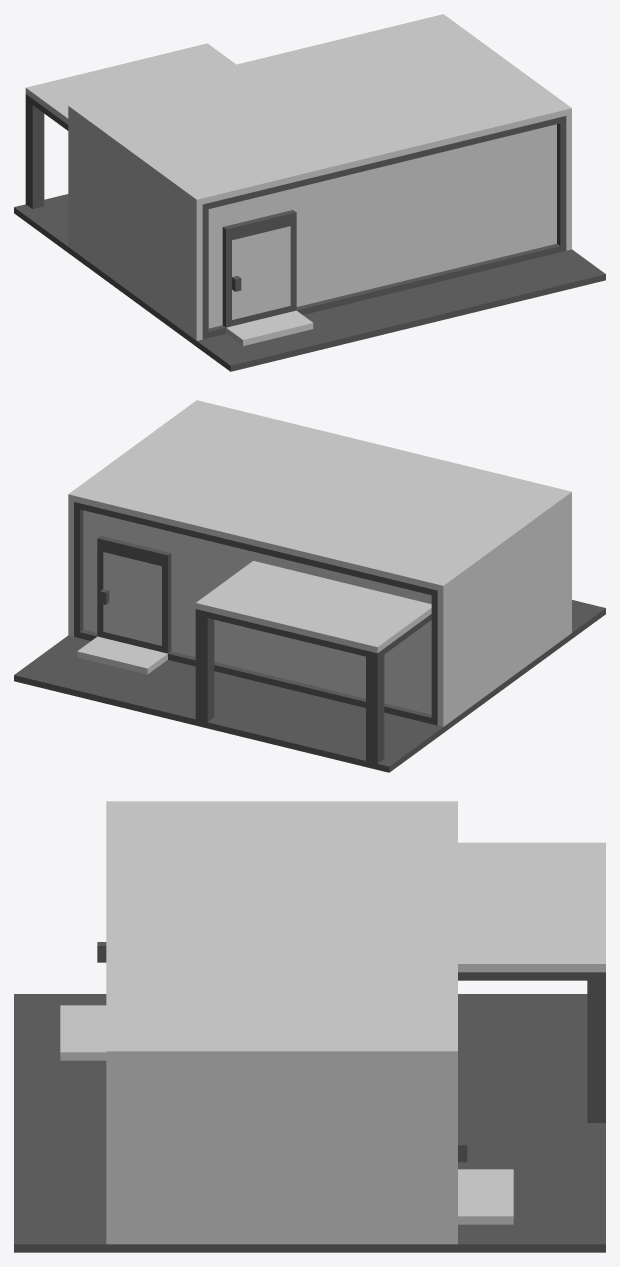
The model's file is bld_house2b.obj.
The picture shows the model from 3 angles, top to bottom: view 1: azimuth 30°, elevation 25°; view 2: azimuth 150°, elevation 25°; view 3: azimuth 270°, elevation 25°; orthographic projection. The views are drawn at different scales.
Bounding box in the file's own units: 64 × 24 × 64.
